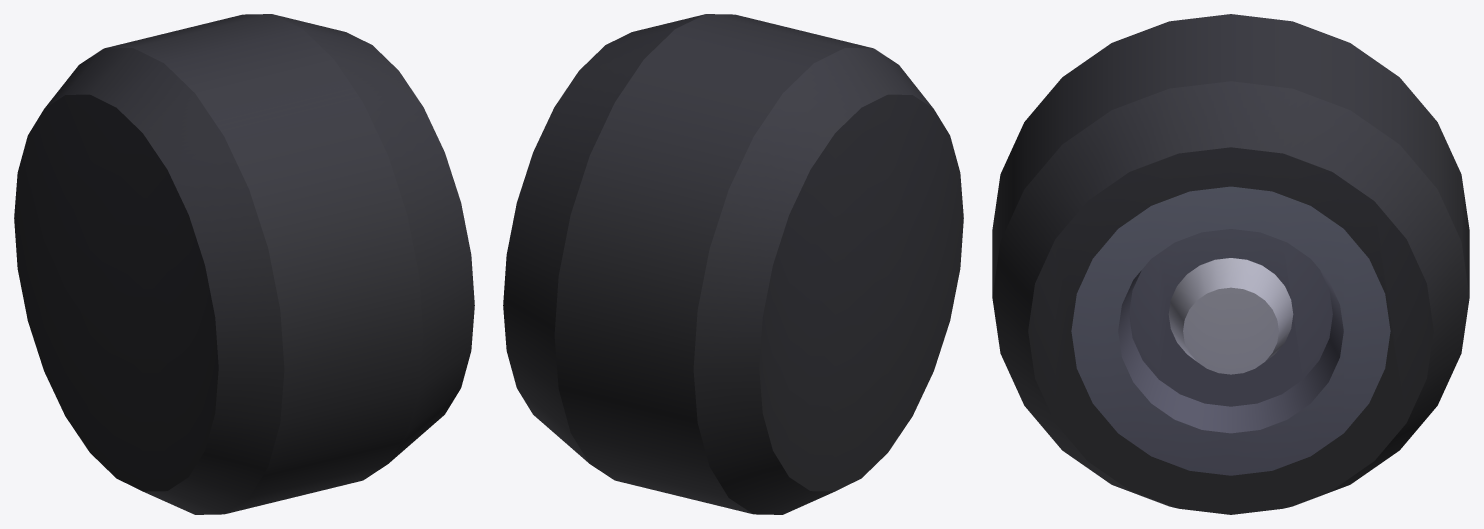
The model's file is wheel-tractor-dark-back.glb.
3 renders of one model, left to right at view 1: azimuth 30°, elevation 25°; view 2: azimuth 150°, elevation 25°; view 3: azimuth 270°, elevation 25°, orthographic.
Parts seen in each view (by area): view 1: wheel-tractor-dark-back; view 2: wheel-tractor-dark-back; view 3: wheel-tractor-dark-back.
Boxes of the visible parts, x1=… form: wheel-tractor-dark-back: x1=14, y1=14, x2=474, y2=514; wheel-tractor-dark-back: x1=503, y1=14, x2=963, y2=514; wheel-tractor-dark-back: x1=992, y1=14, x2=1469, y2=514.
Size of the model in its own units: 0.5376 by 0.8752 by 0.8752.
